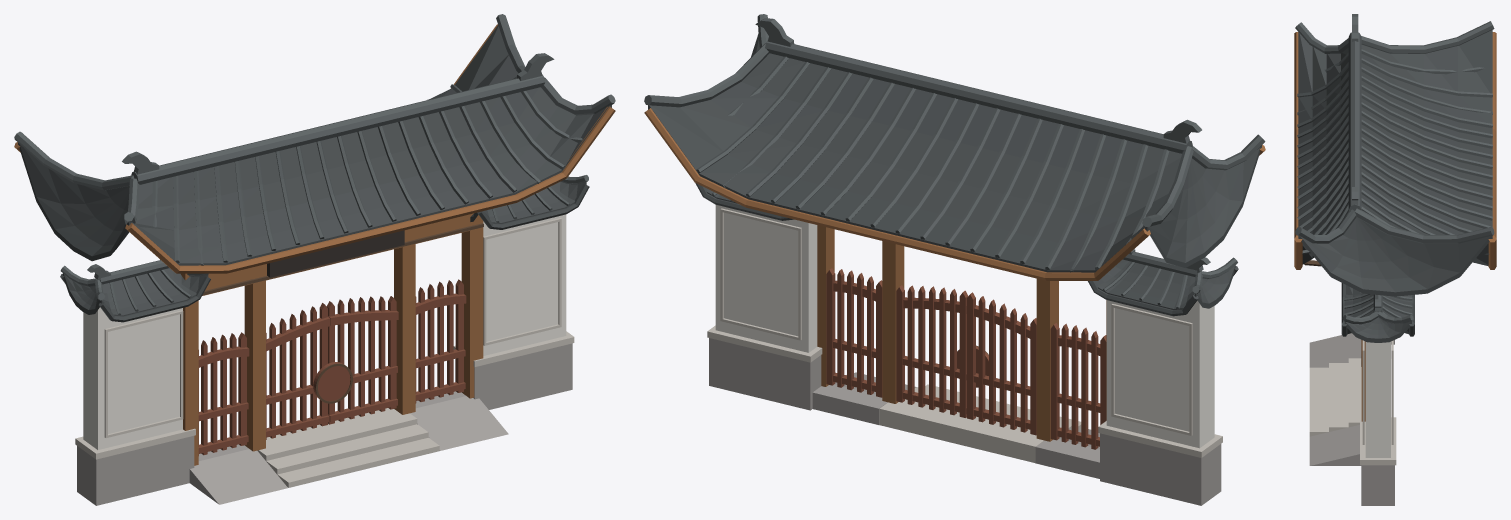
The model's file is lod-source.glb.
The picture shows the model from 3 angles, left to right: view 1: azimuth 30°, elevation 25°; view 2: azimuth 150°, elevation 25°; view 3: azimuth 270°, elevation 25°; orthographic projection. The views are drawn at different scales.
Parts seen in each view (by area): view 1: 复旦大学邯郸校区老校门; view 2: 复旦大学邯郸校区老校门; view 3: 复旦大学邯郸校区老校门.
Part boxes in pixels (bbox=[...]): 复旦大学邯郸校区老校门: bbox=[14, 14, 615, 505]; 复旦大学邯郸校区老校门: bbox=[644, 14, 1265, 505]; 复旦大学邯郸校区老校门: bbox=[1294, 14, 1496, 505].
Bounding box in the file's own units: 8.24 × 5.55 × 3.36.
